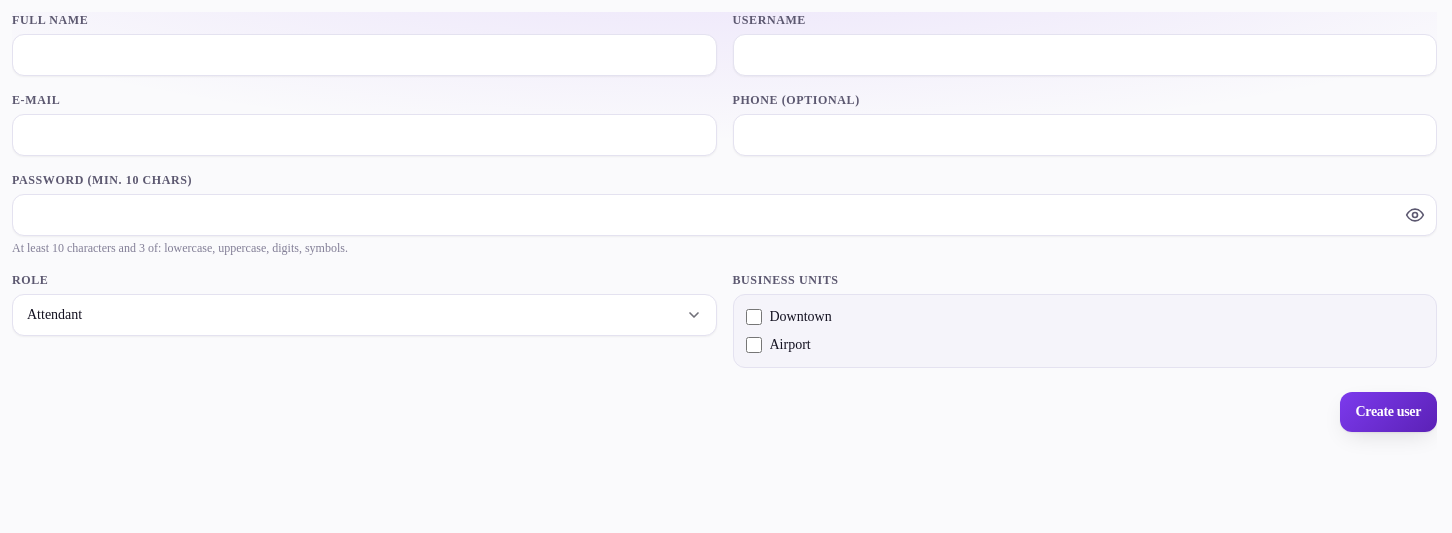
Test: UserForm (create) › requires at least one unit for a non-ADMIN role
Type "Bob Staff" into the field labelled "Full name". click: (364, 55)
box: top-left (12, 34), bottom-right (716, 76)
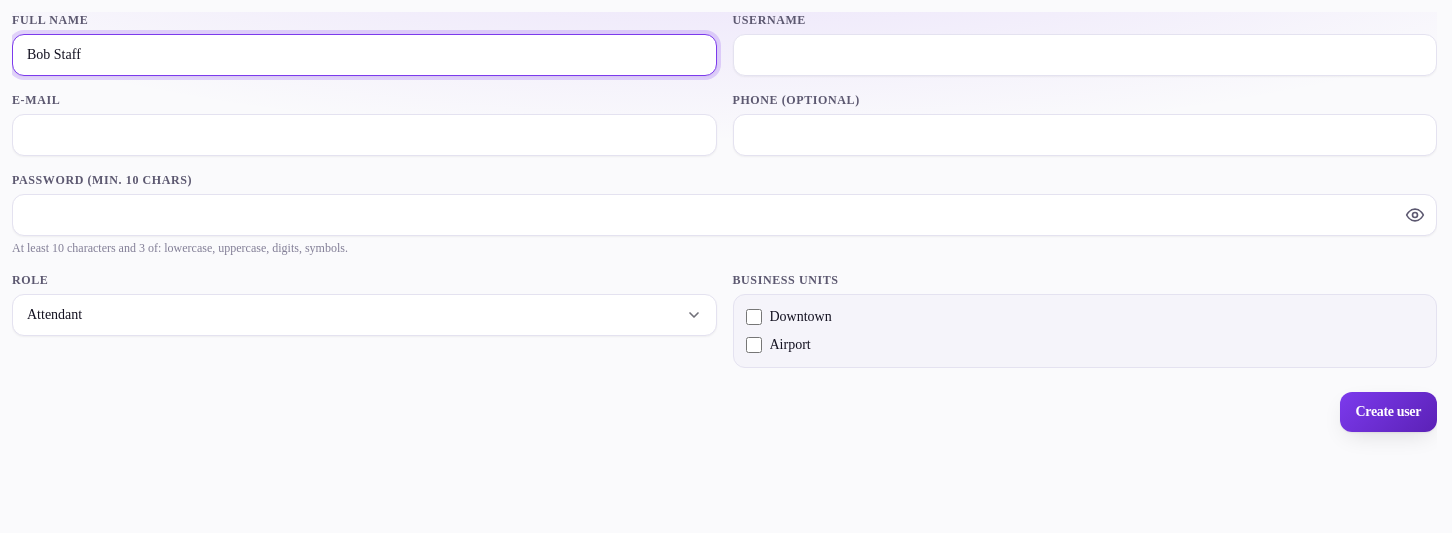
Type "bob@example.com" into the field labelled "E-mail". click: (364, 135)
box: top-left (12, 114), bottom-right (716, 156)
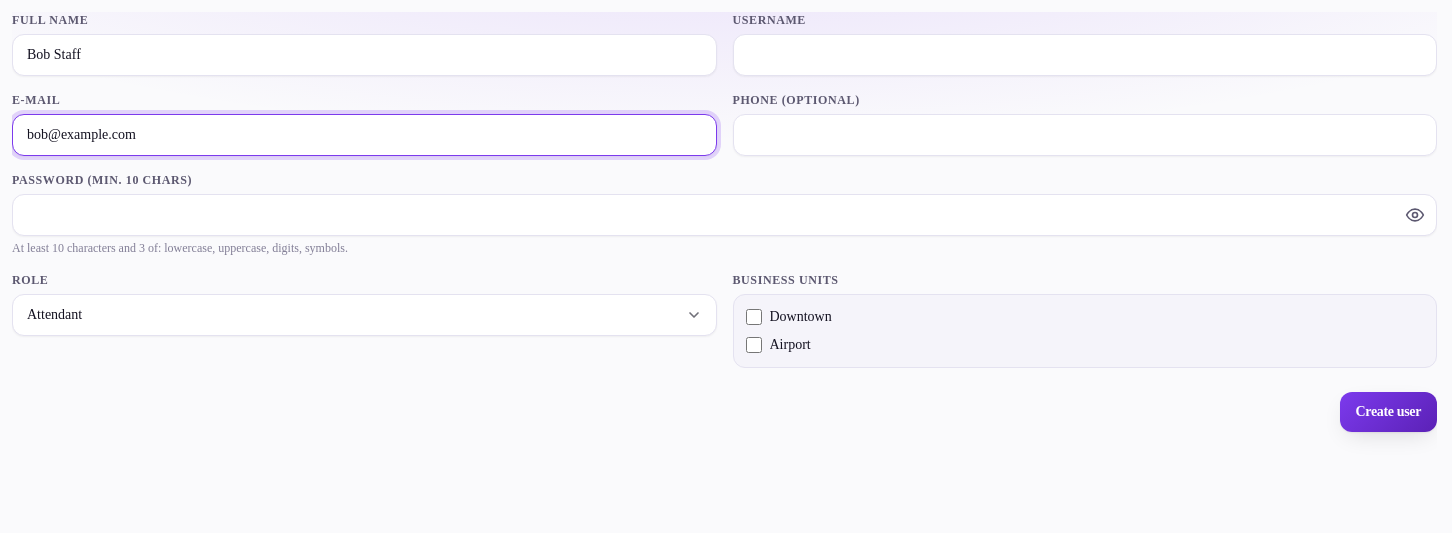
Type "bobstaff" into the field labelled "Username". click: (1085, 55)
box: top-left (732, 34), bottom-right (1437, 76)
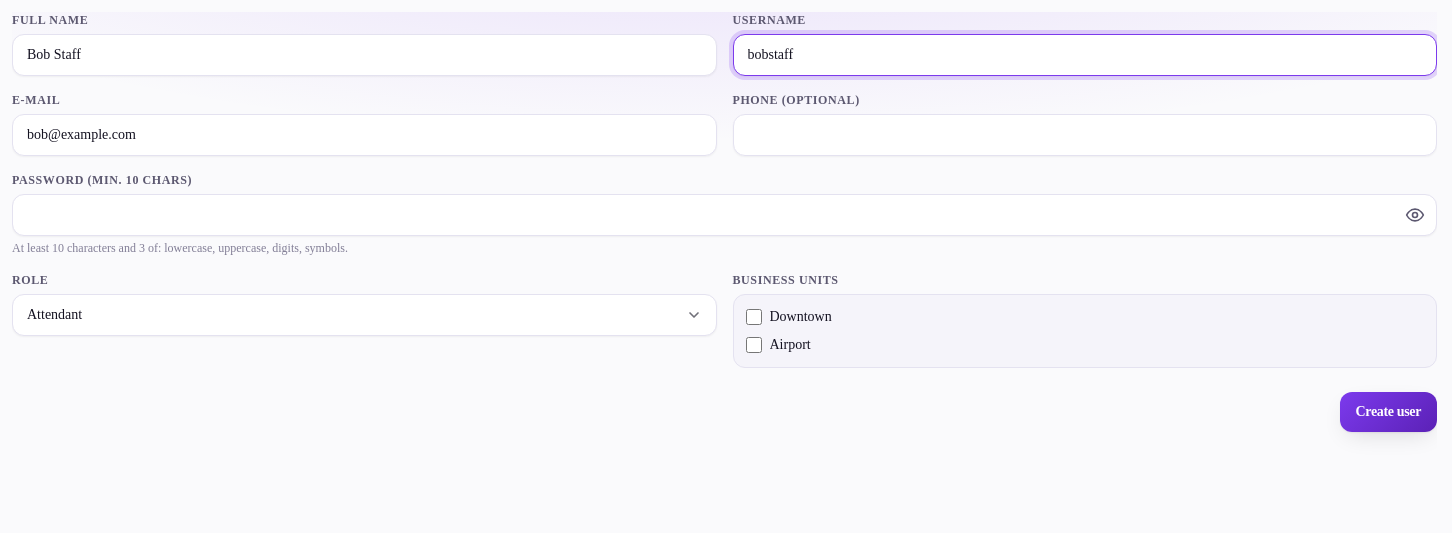
Type "NewPass123" into the password field labelled "Password (min. 10 chars)". click: (724, 215)
box: top-left (12, 194), bottom-right (1437, 236)
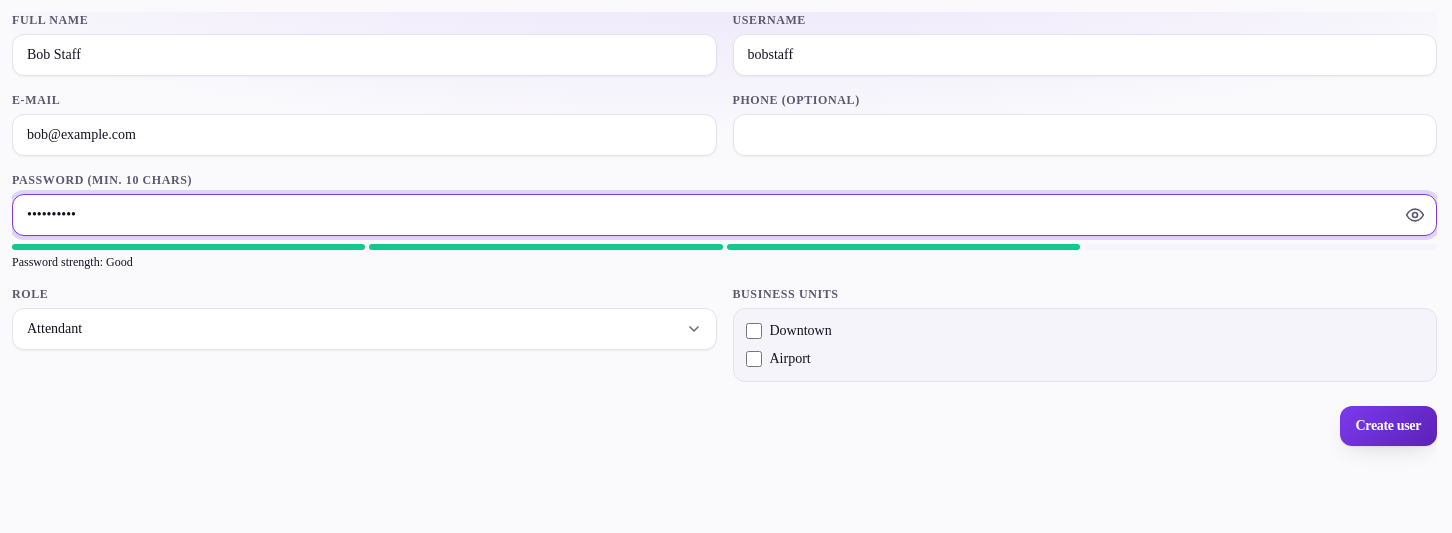
Click the button "Create user". click: click(1388, 426)
box: top-left (1340, 406), bottom-right (1437, 446)
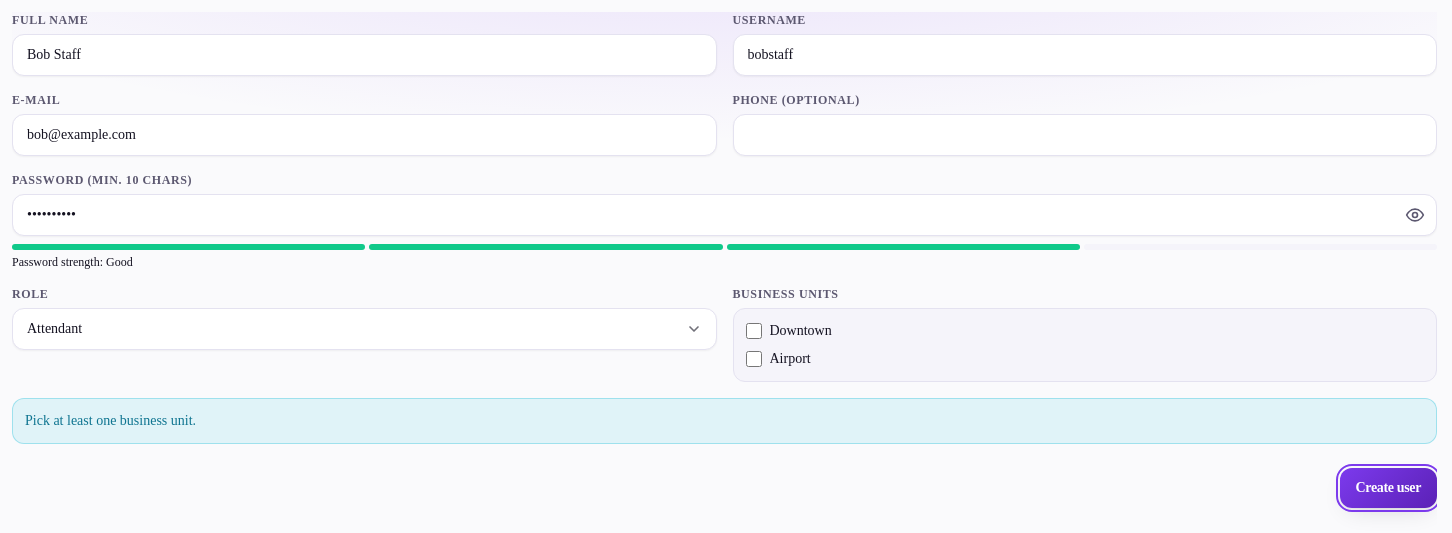
expect the message "Pick at least one business unit." is shown: met, box top-left (12, 398), bottom-right (1437, 444)
